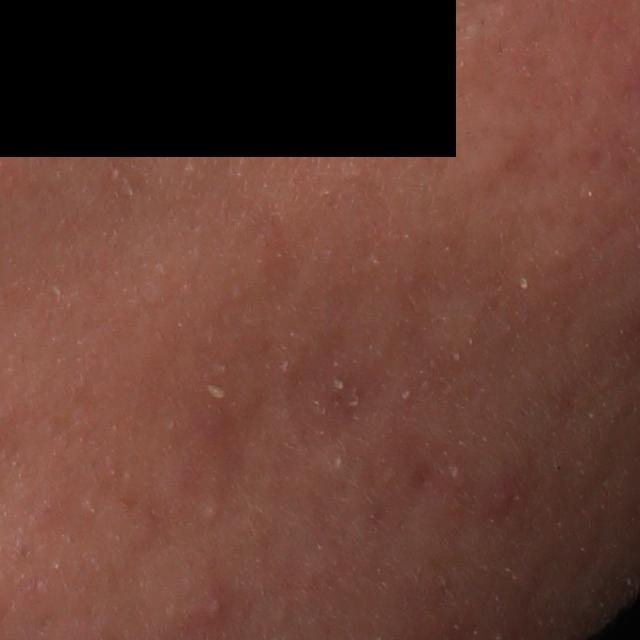comedo: (202, 502, 225, 523)
papule: (484, 476, 521, 520)
